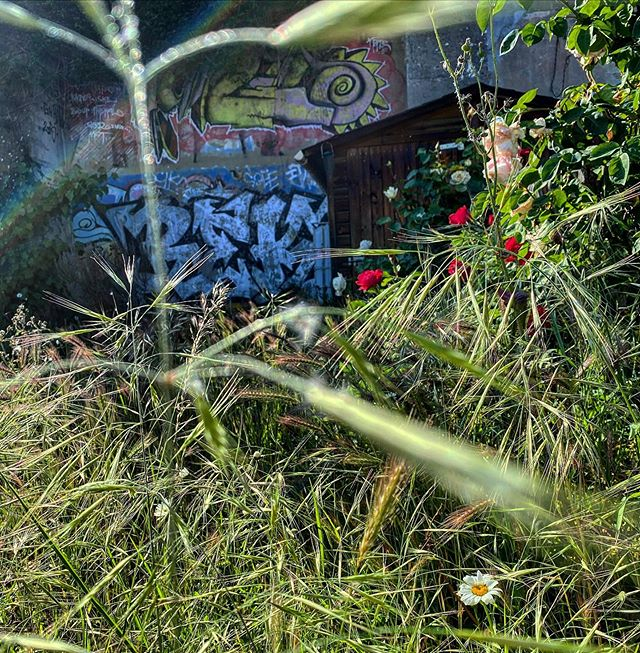graffiti: (104, 7, 406, 165), (66, 165, 335, 315)
vegetation: (1, 277, 640, 653)
